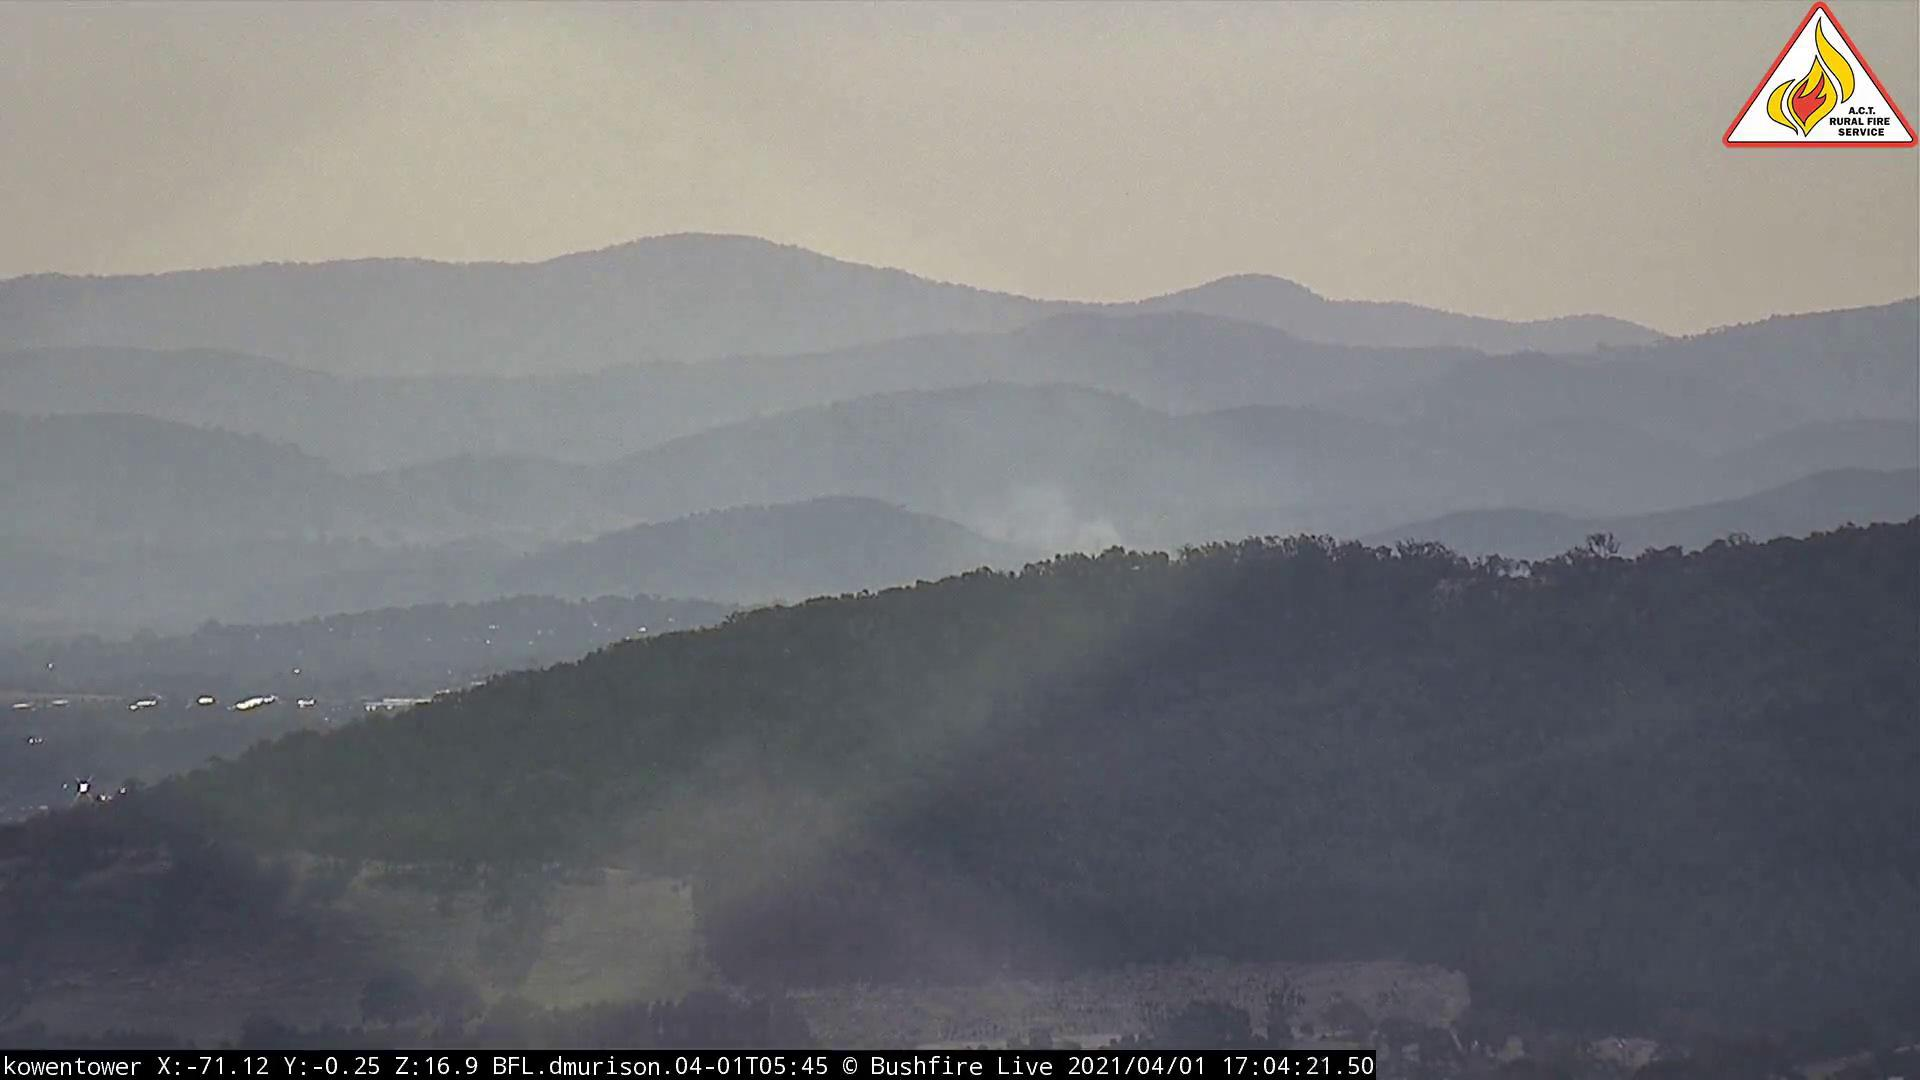Smoke: (943, 452, 1168, 579)
